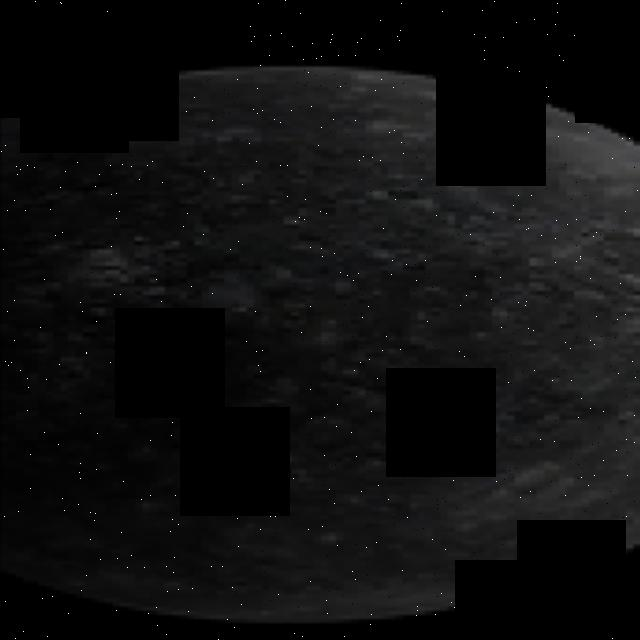Mercury: (0, 67, 640, 628)
